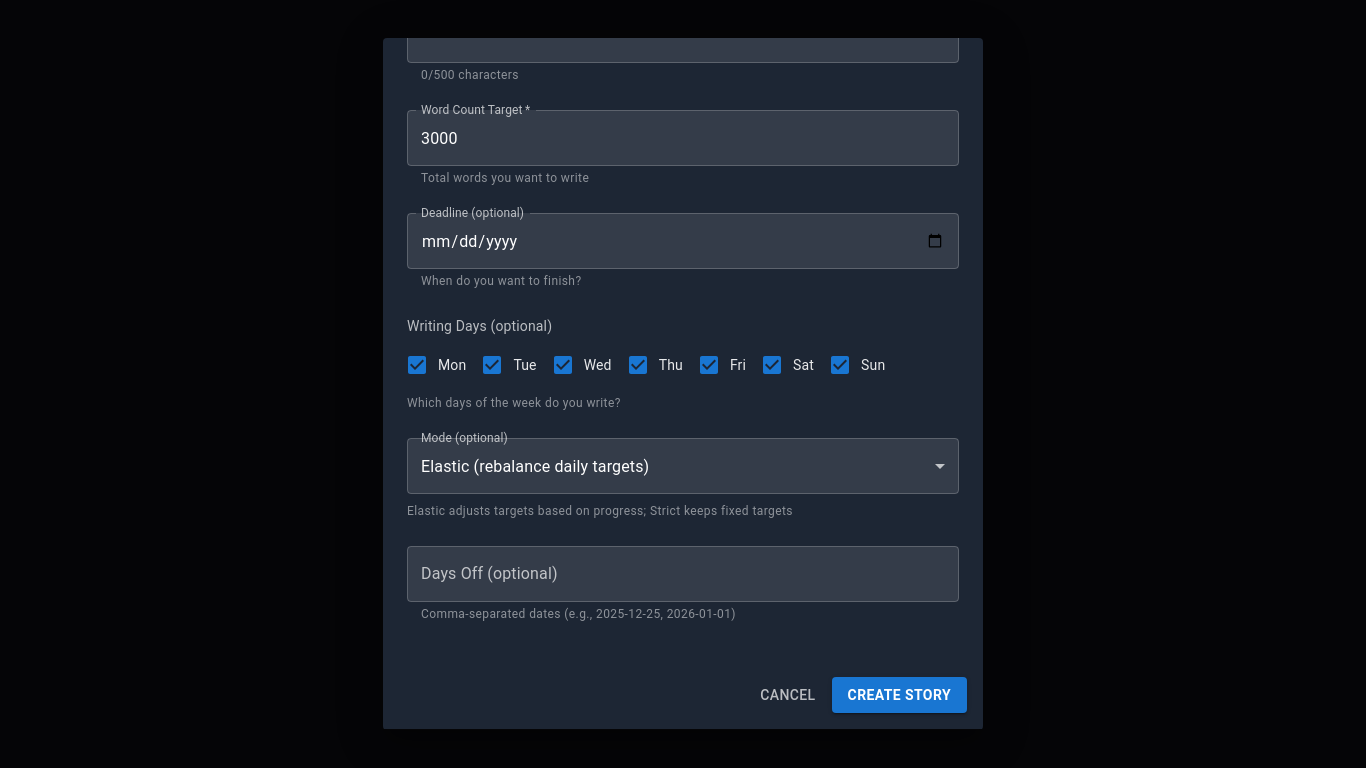
it: NewStoryModal › validates required story name
(page scrolled)
// Submit the form directly via the button to trigger validation
Click the button "Create Story": x=899, y=695 [832, 677, 967, 713]
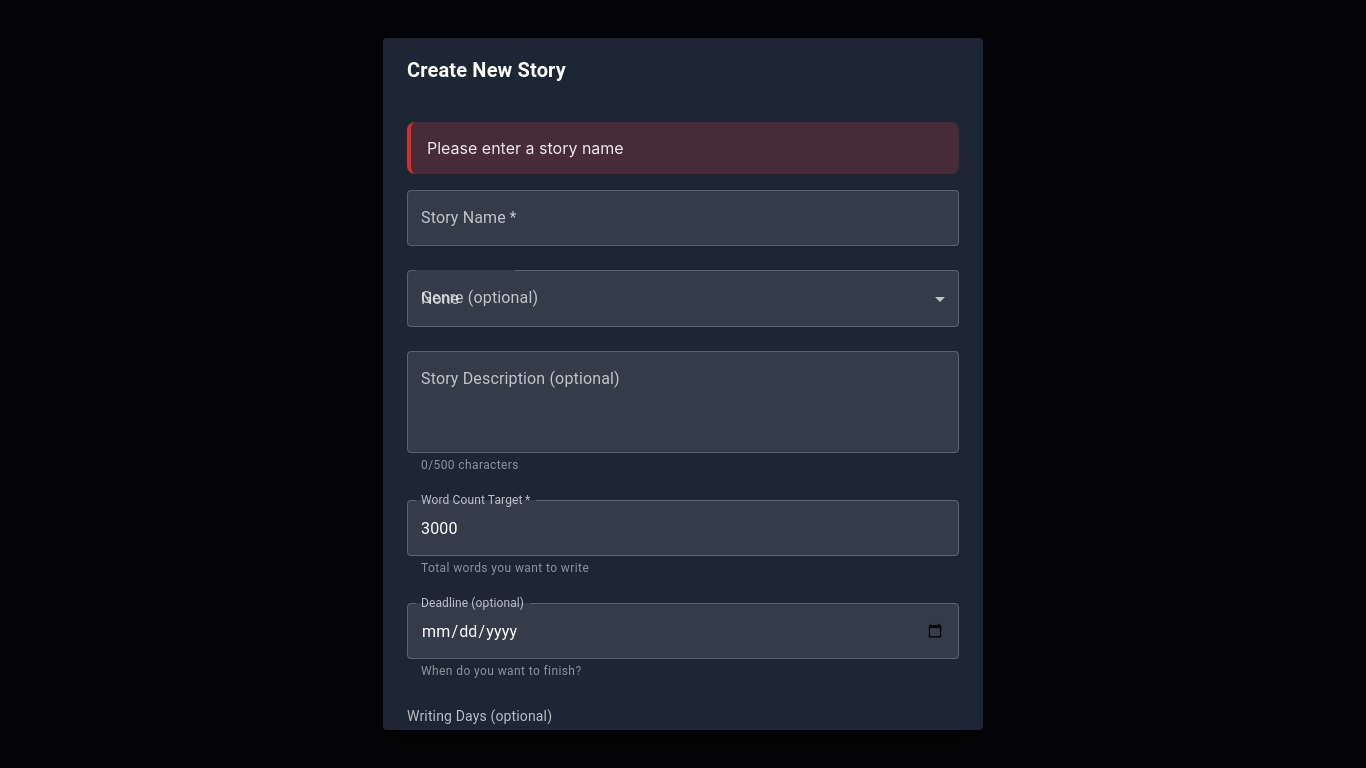
Now the text "Please enter a story name" is shown, box [407, 122, 959, 174]
